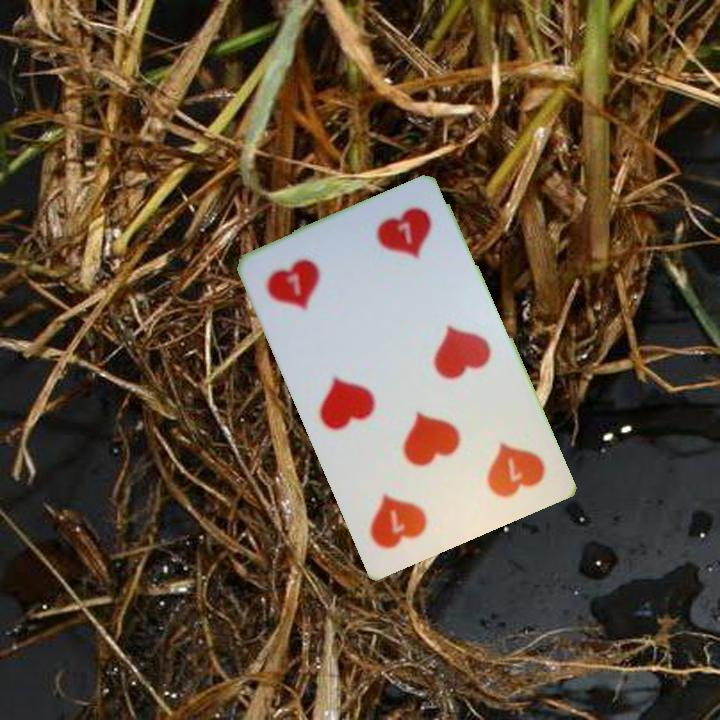h_7.png: (433, 406, 557, 523), (253, 227, 377, 343)
